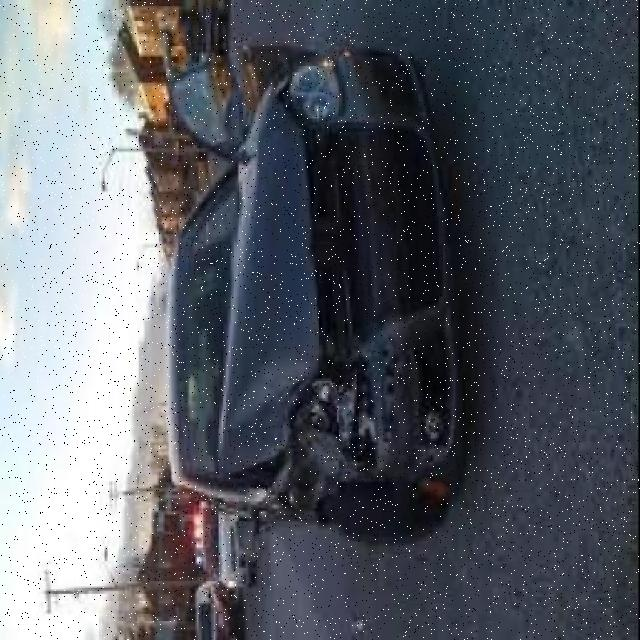damage: (221, 85, 468, 525)
